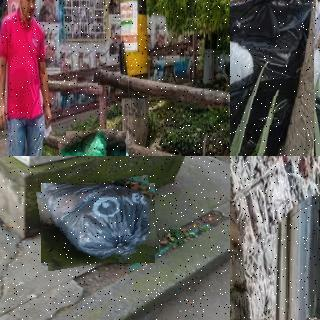Garbage: (230, 0, 315, 156), (39, 179, 158, 267), (61, 129, 130, 156)
